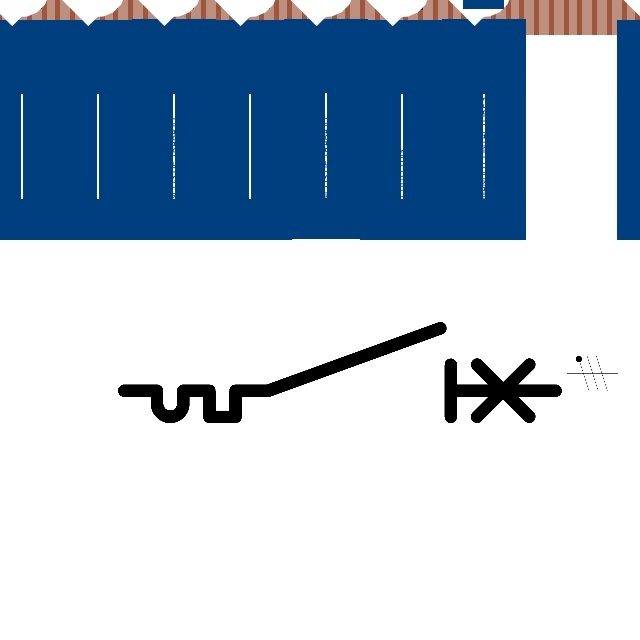interruptor_termomagnetico: (113, 317, 567, 428)
